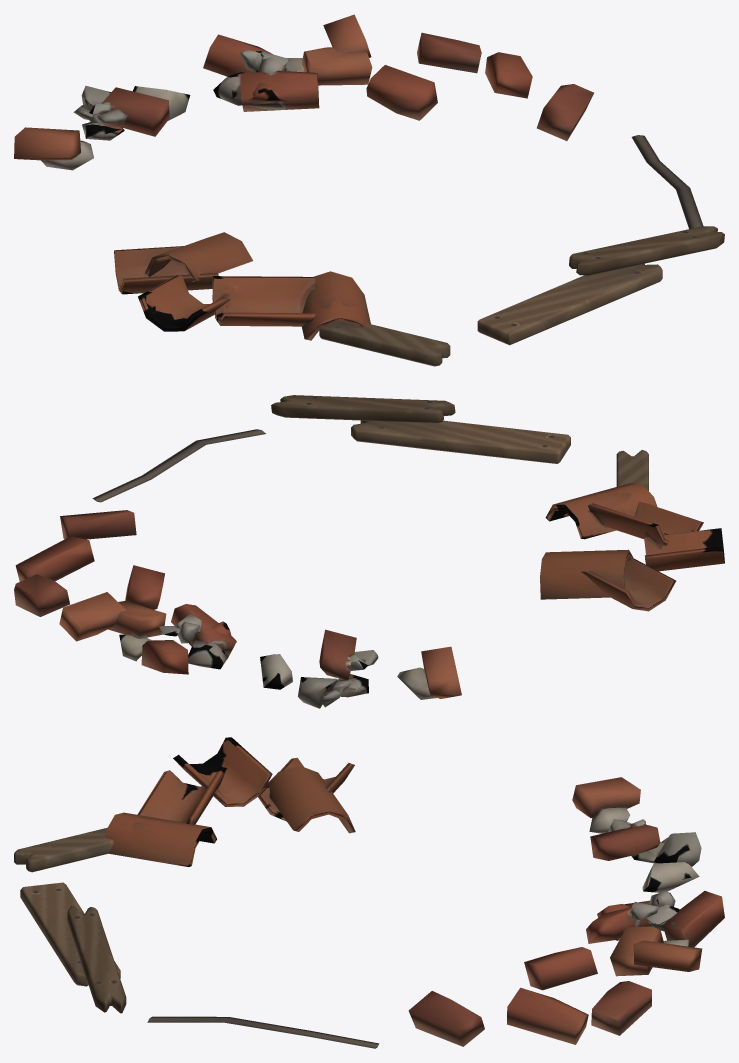
The model's file is rough-town-2.glb.
The picture shows the model from 3 angles, top to bottom: view 1: azimuth 30°, elevation 25°; view 2: azimuth 150°, elevation 25°; view 3: azimuth 270°, elevation 25°; orthographic projection. The views are drawn at different scales.
Visible parts, largest first — view 1: rough-town-2; view 2: rough-town-2; view 3: rough-town-2.
Part boxes in pixels (<box>): rough-town-2: <box>14,14,724,366</box>; rough-town-2: <box>14,395,724,708</box>; rough-town-2: <box>14,737,724,1048</box>.
Size of the model in its own units: 1.39 by 0.1129 by 1.5.
Materials: 1 (1 with a texture image).
